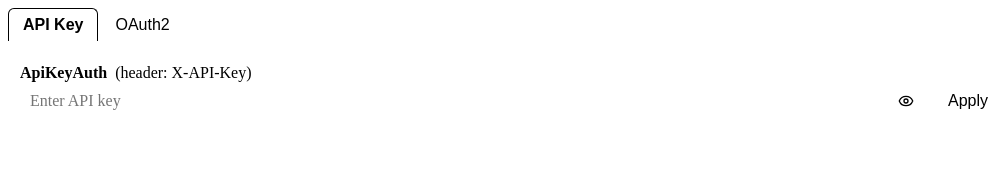
Scenario: AuthPanel scheme tabs › switches the visible form when another tab is selected
Click the tab "OAuth2" at (143,24), box [100, 8, 185, 41]
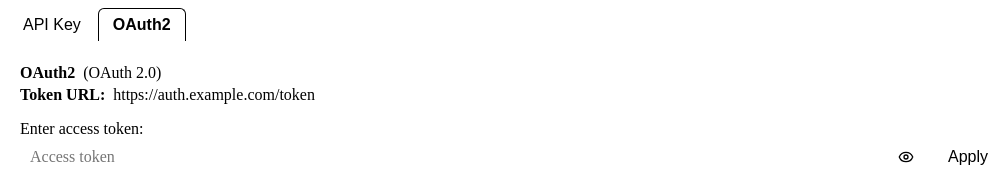
Result: the password field with placeholder "Access token" is shown at [20, 142, 924, 172]
